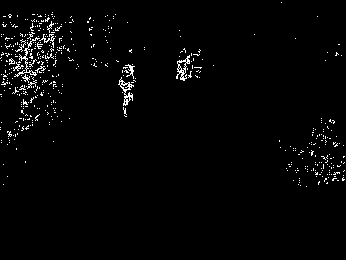person: (118, 63, 138, 118)
